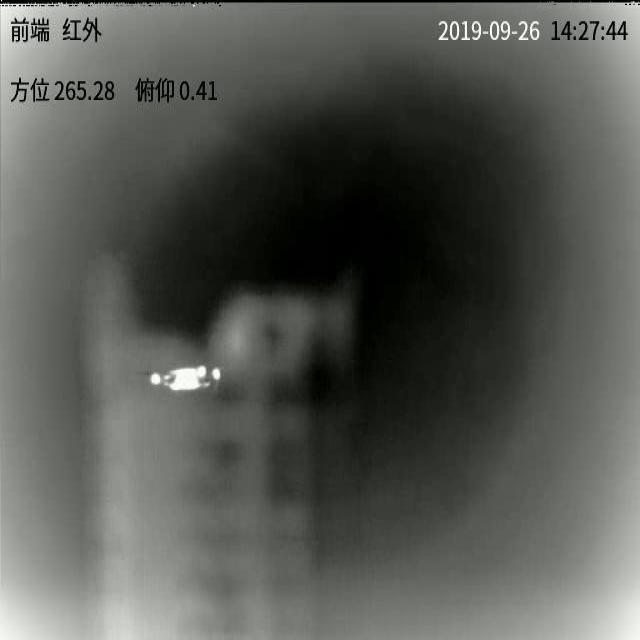drone: (150, 366, 222, 391)
